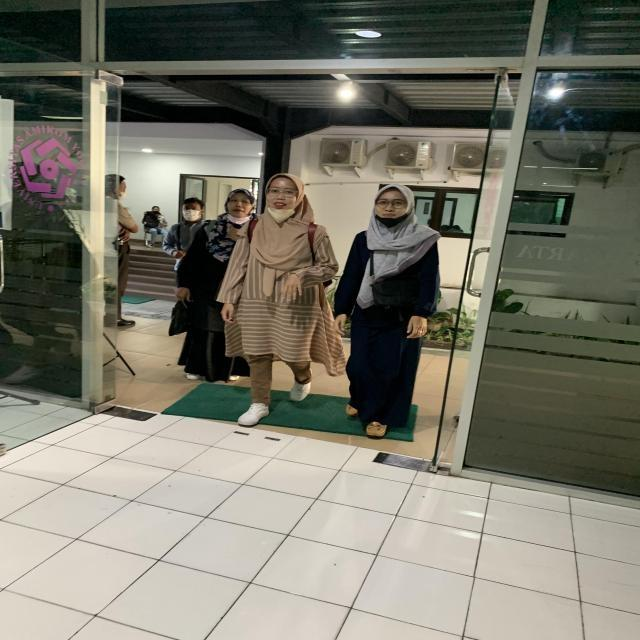hairnet: (252, 170, 315, 240), (356, 181, 424, 233), (217, 188, 263, 226)
